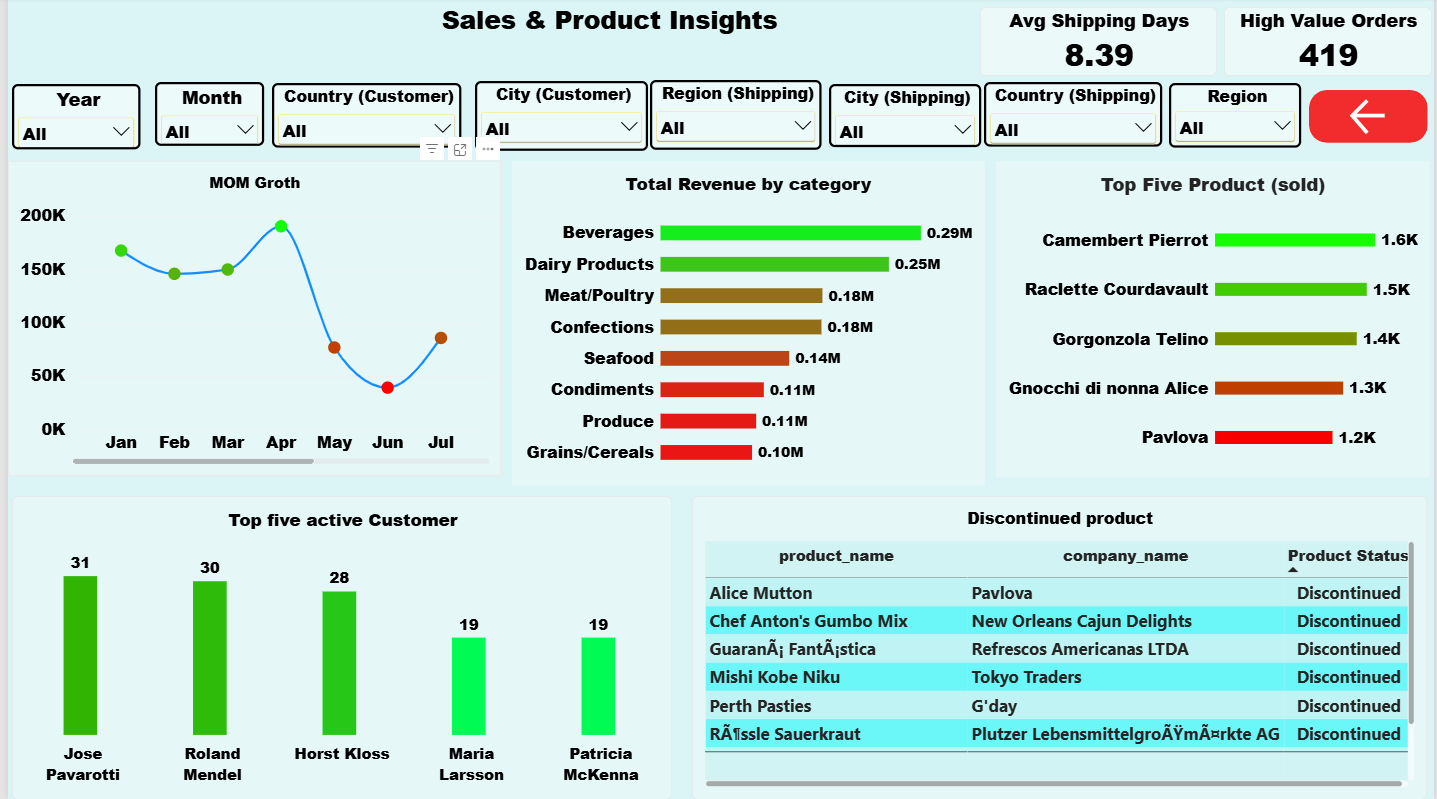

The dashboard page shown, as its layout file describes it:
{"tool":"powerbi","page":{"name":"Sales & Product Insights1","canvas":[1920,1080],"ordinal":0},"visuals":[{"type":"cardVisual","fields":{"Data":["_measures (3).High Value Orders Count"]},"box":[1637.5,13.9,280.7,93.6],"z":0},{"type":"slicer","title":"City (Customer)","fields":{"Values":["public v_pbi_dim_customers.city"]},"box":[611.7,119.9,234.3,68.7],"z":0,"group":"g1"},{"type":"cardVisual","fields":{"Data":["_measures (3).Average Shipping Days"]},"box":[1309.6,13.9,319.6,94],"z":1000},{"type":"slicer","title":"Country (Customer)","fields":{"Values":["public v_pbi_dim_customers.country"]},"box":[347.8,121.2,255.9,71.4],"z":1000,"group":"g1"},{"type":"slicer","title":"Year","fields":{"Values":["Date Table.Year"]},"box":[4.4,121.2,176.4,68.7],"z":2000,"group":"g1"},{"type":"group","id":"g1","title":"Slicer menu","box":[4.4,118.1,1899.6,77.2],"z":3000},{"type":"slicer","title":"City (Shipping)","fields":{"Values":["public v_pbi_fact_sales.city"]},"box":[1095.2,118.1,214.1,71.4],"z":3000,"group":"g1"},{"type":"slicer","title":"Country (Shipping)","fields":{"Values":["public v_pbi_fact_sales.country"]},"box":[1316,119.4,243.7,71.4],"z":4000,"group":"g1"},{"type":"lineChart","title":"MOM Growth","fields":{"Category":["Date Table.Month Name"],"Y":["_measures (3).Total Revenue"]},"box":[18.9,220.8,638.3,424.2],"z":4000},{"type":"slicer","title":"Month","fields":{"Values":["Date Table.Month Name"]},"box":[190.2,121.2,146.8,74.1],"z":5000,"group":"g1"},{"type":"clusteredBarChart","title":"Top Five Product (sold)","fields":{"Category":["public v_pbi_dim_products.product_name"],"Y":["_measures (3).Total Quantity Sold"]},"box":[1346.6,220.8,565.6,425.5],"z":5000},{"type":"slicer","title":"Region (Shipping)","fields":{"Values":["public v_pbi_dim_ship_region.shipregion"]},"box":[852.8,118.5,237,71.4],"z":6000,"group":"g1"},{"type":"tableEx","title":"Discontinued product","fields":{"Values":["public v_pbi_dim_products.product_name","public v_pbi_dim_suppliers.company_name","_measures (3).Discontinued Status"]},"box":[988.4,661.2,895.5,382.4],"z":6000},{"type":"slicer","title":"Region ","fields":{"Values":["public v_pbi_dim_regions.region_description"]},"box":[1566,119.4,185.8,71.4],"z":7000,"group":"g1"},{"type":"clusteredBarChart","title":"Total Revenue by category","fields":{"Category":["public v_pbi_dim_categories.category_name"],"Y":["_measures (3).Total Revenue"]},"box":[680,220.8,645,425.5],"z":7000},{"type":"actionButton","title":"left arrow","box":[1776,120.7,127.9,60.6],"z":8000,"group":"g1"},{"type":"clusteredColumnChart","title":" Top five active Customer","fields":{"Category":["public v_pbi_dim_customers.contact_name"],"Y":["_measures (3).Active Customer Orders"]},"box":[117.2,661.2,715.1,382.4],"z":8000},{"type":"shape","title":"Sales & Product Insights","box":[557.5,13.5,653.6,53.3],"z":9000}]}

Visuals, with their boxes in screenshot pixels (x1, y1, x2, y2), scaled from the page's 1920x1080 canvas onto the 1437x799 screenshot:
cardVisual - _measures (3).High Value Orders Count: region(1226, 10, 1436, 80)
"City (Customer)" slicer: region(458, 89, 633, 140)
cardVisual - _measures (3).Average Shipping Days: region(980, 10, 1219, 80)
"Country (Customer)" slicer: region(260, 90, 452, 142)
"Year" slicer: region(3, 90, 135, 140)
"Slicer menu" group: region(3, 87, 1425, 144)
"City (Shipping)" slicer: region(820, 87, 980, 140)
"Country (Shipping)" slicer: region(985, 88, 1167, 141)
"MOM Growth" lineChart: region(14, 163, 492, 477)
"Month" slicer: region(142, 90, 252, 144)
"Top Five Product (sold)" clusteredBarChart: region(1008, 163, 1431, 478)
"Region (Shipping)" slicer: region(638, 88, 816, 140)
"Discontinued product" tableEx: region(740, 489, 1410, 772)
"Region " slicer: region(1172, 88, 1311, 141)
"Total Revenue by category" clusteredBarChart: region(509, 163, 992, 478)
"left arrow" actionButton: region(1329, 89, 1425, 134)
" Top five active Customer" clusteredColumnChart: region(88, 489, 623, 772)
"Sales & Product Insights" shape: region(417, 10, 906, 49)
